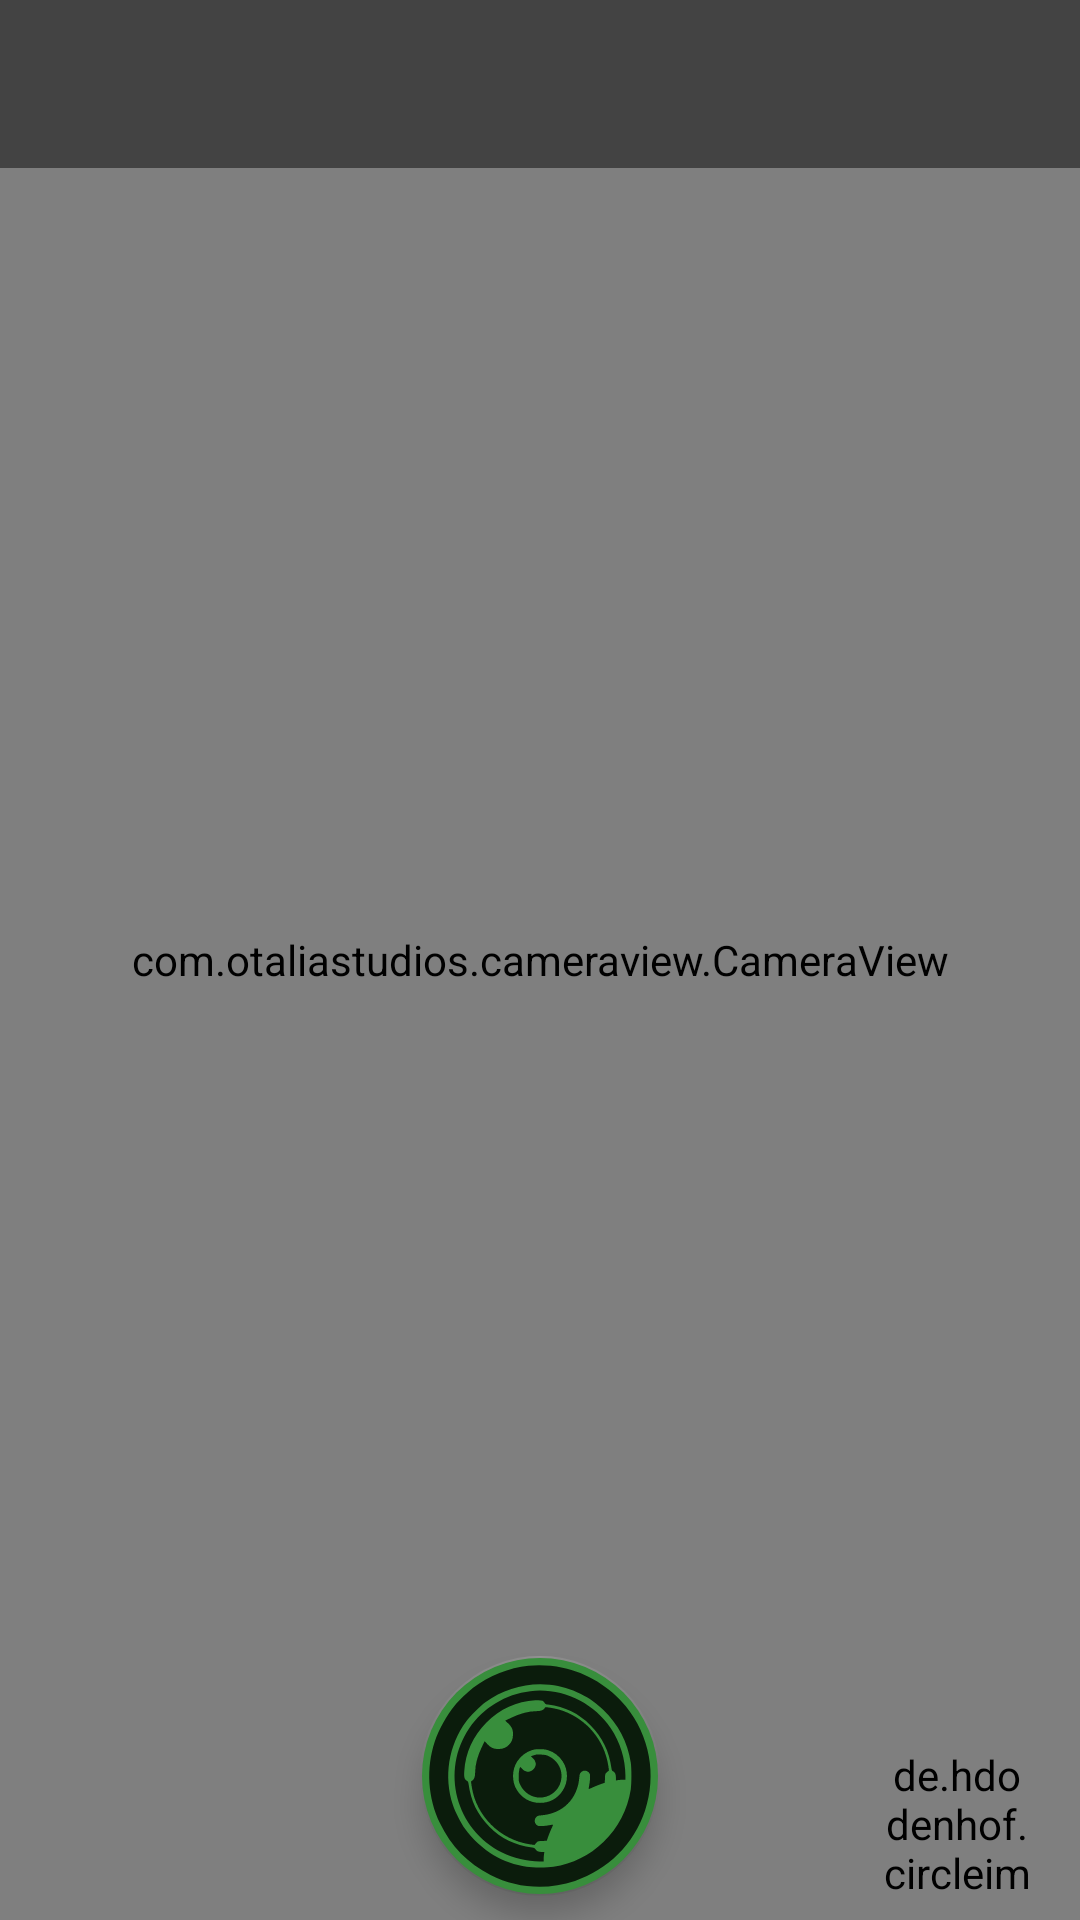

Icons on this 1080 × 1920 Android screen, each with its box as (x1,y1,x2,y2):
camera shutter: (422,1658,658,1896)
